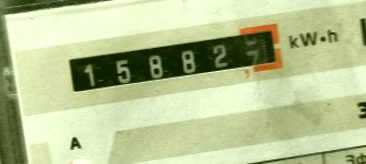1: (79, 61, 97, 91)
2: (209, 43, 229, 73)
5: (111, 58, 133, 87)
7: (242, 48, 260, 67)
8: (144, 54, 164, 83), (178, 48, 196, 78)
screen: (52, 16, 293, 108)
